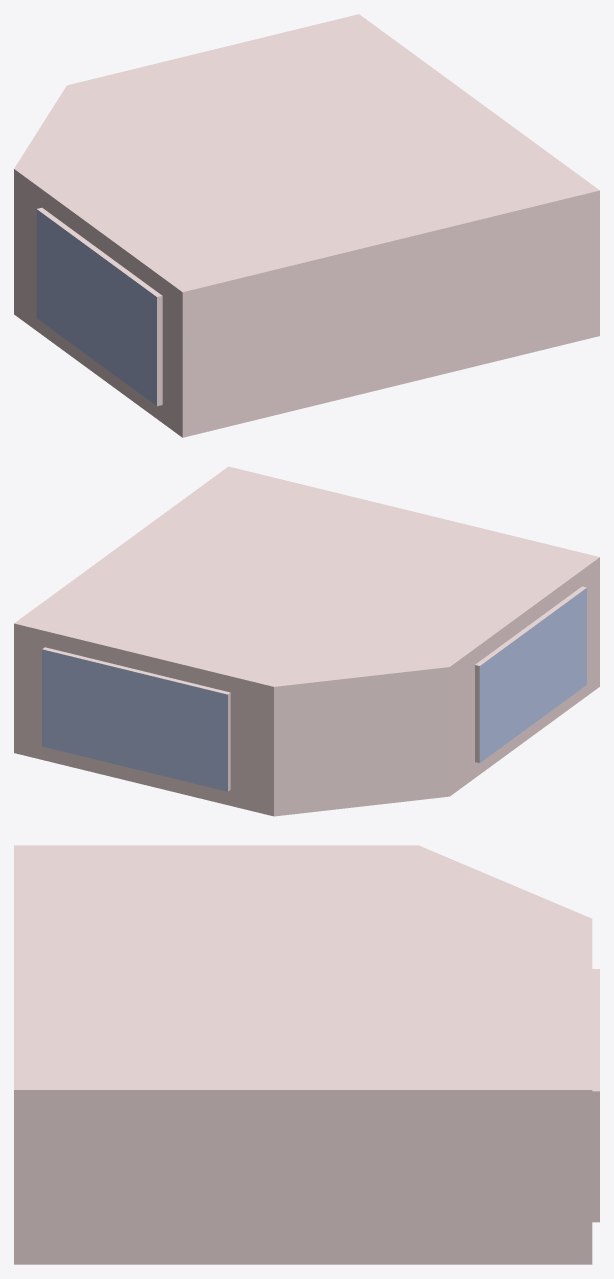
Rendered from CafeRoom.fbx.
3 renders of one model, top to bottom at view 1: azimuth 30°, elevation 25°; view 2: azimuth 150°, elevation 25°; view 3: azimuth 270°, elevation 25°, orthographic. The views are drawn at different scales.
Visible parts, largest first — view 1: pCube299; view 2: pCube299; view 3: pCube299.
Boxes of the visible parts, left/top/right/bottom form: pCube299: left=14, top=14, right=599, bottom=437; pCube299: left=14, top=466, right=599, bottom=816; pCube299: left=14, top=845, right=599, bottom=1264.
Size of the model in its own units: 1216 by 400 by 1216.
